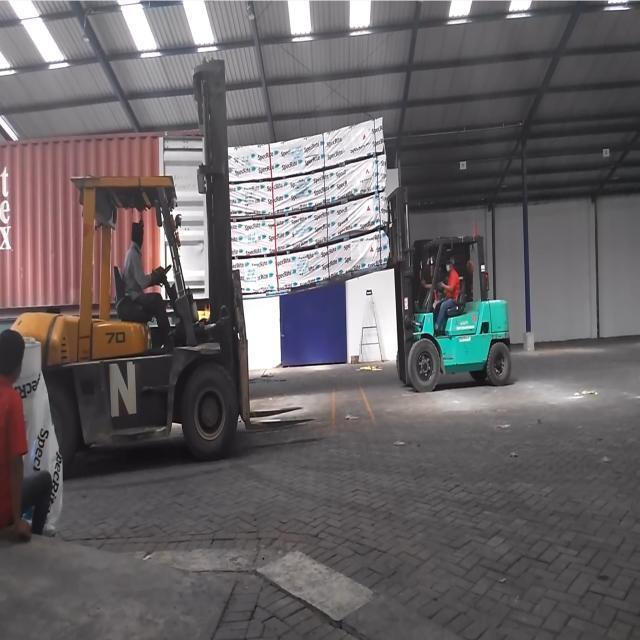driver: (120, 212, 178, 346), (436, 258, 462, 332)
forklift: (43, 163, 258, 463), (388, 186, 514, 390)
person: (0, 328, 51, 533)
